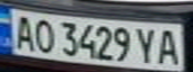2: (93, 22, 115, 61)
3: (57, 19, 81, 57)
4: (75, 21, 96, 60)
9: (112, 24, 136, 63)
A: (6, 12, 39, 51), (154, 26, 184, 65)
O: (30, 17, 57, 54)
Y: (133, 25, 160, 64)
